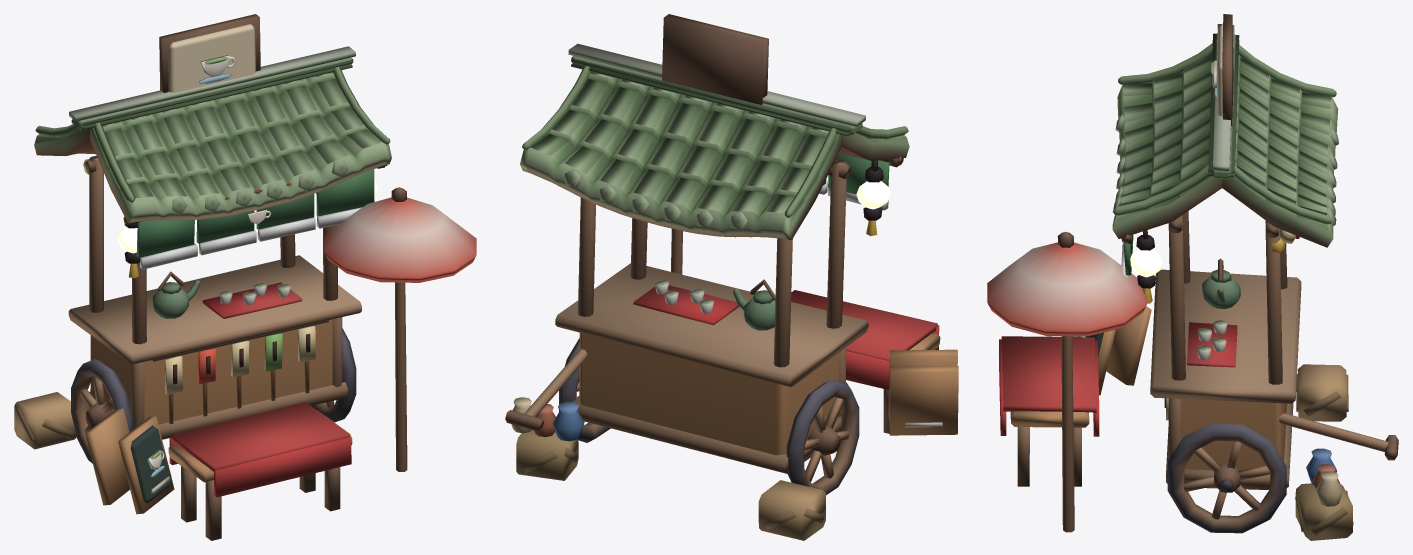
Rendered from shop-1-v0.glb.
3 views of the same model, side by side, from view 1: azimuth 30°, elevation 25°; view 2: azimuth 150°, elevation 25°; view 3: azimuth 270°, elevation 25° (orthographic). The views are drawn at different scales.
Visible parts, largest first — view 1: shop-1-v0; view 2: shop-1-v0, window_glow; view 3: shop-1-v0, window_glow.
Boxes of the visible parts, x1,y1,x2,y2 form: shop-1-v0: [14, 14, 476, 540]; shop-1-v0: [505, 14, 958, 540]; window_glow: [856, 181, 890, 209]; shop-1-v0: [987, 14, 1398, 540]; window_glow: [1130, 249, 1162, 277].
Bounding box in the file's own units: 2.31 × 2.58 × 2.21.
